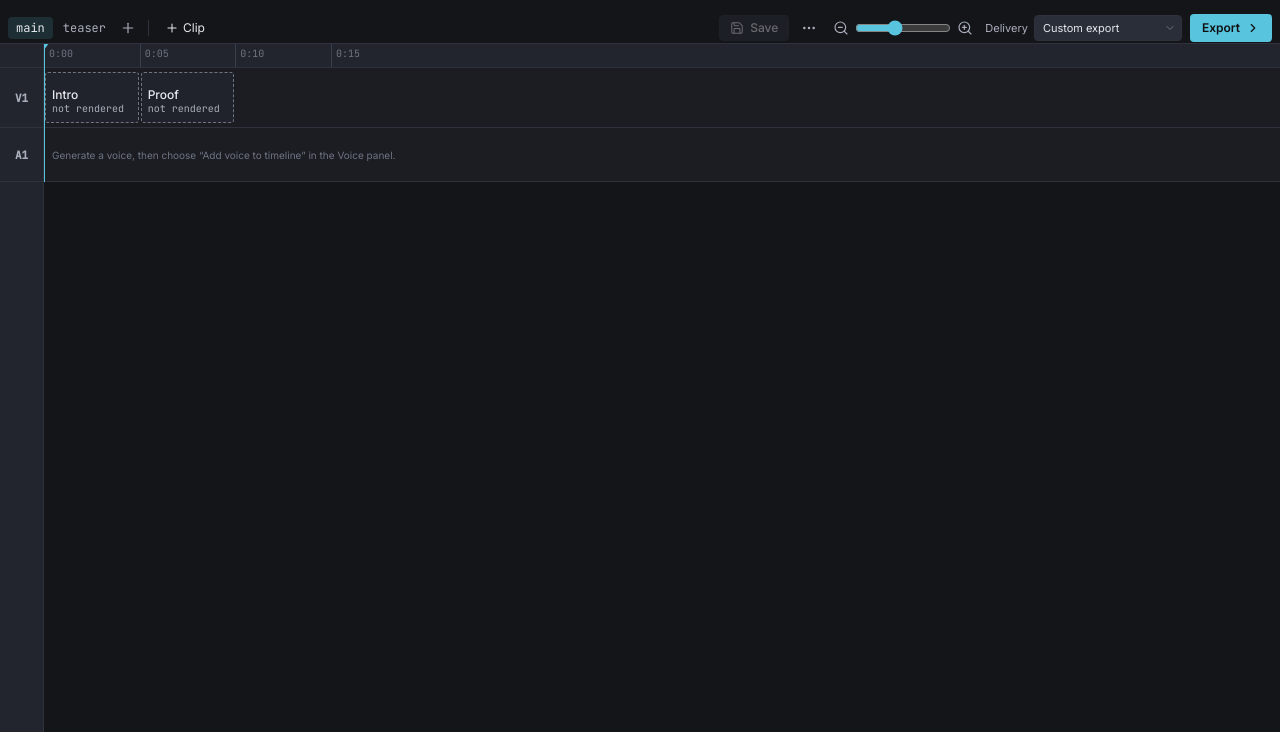
Test: TimelinePanel › will not export unsaved edits
Click the button with aria-label "Clip 1: Intro" at point(92, 98), box x1=45 y1=72 x2=139 y2=123
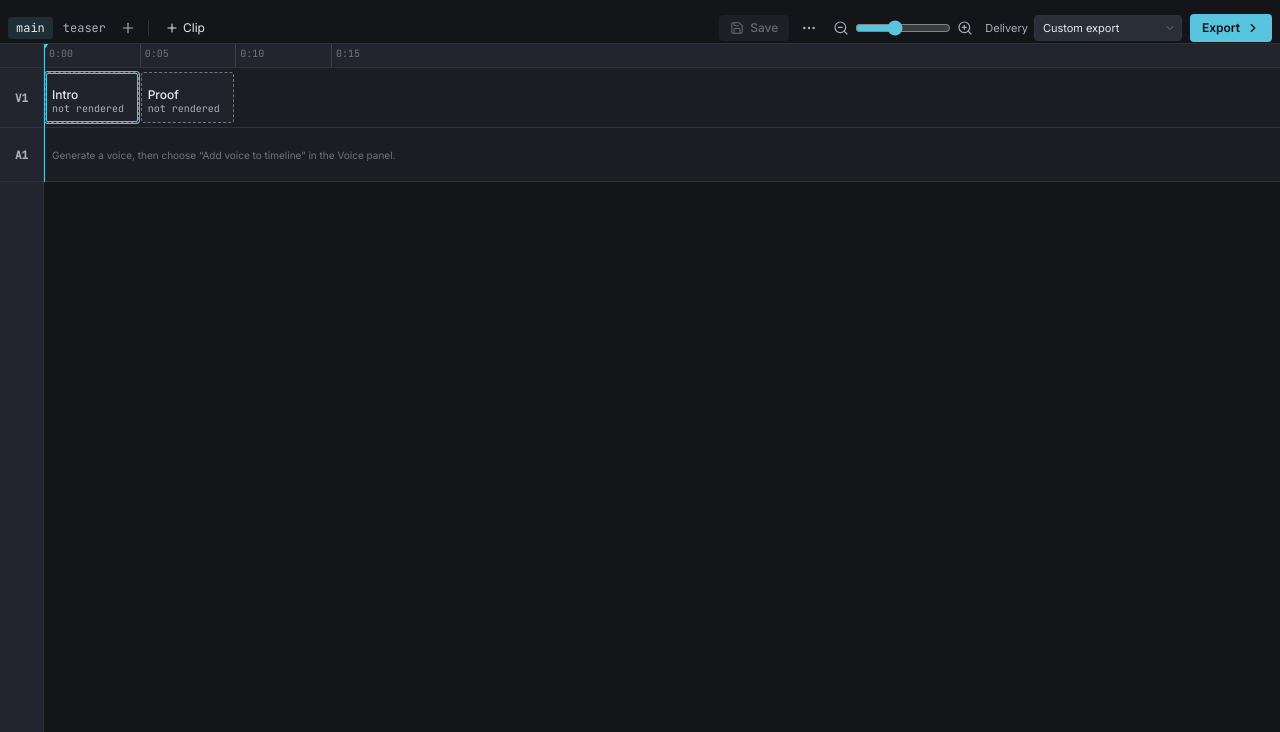
Press Backspace in the button with aria-label "Clip 1: Intro", box x1=45 y1=72 x2=139 y2=123
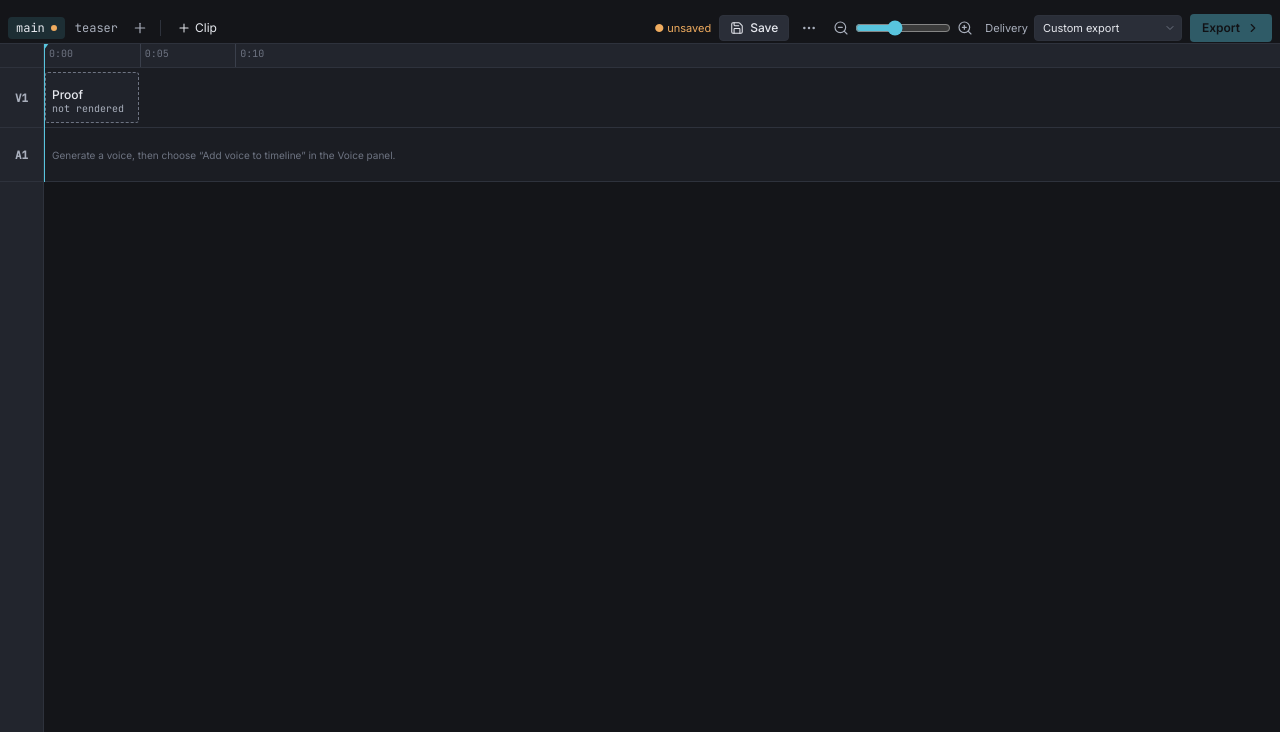
Expected: the button "Export" is disabled, x1=1190 y1=14 x2=1272 y2=42
